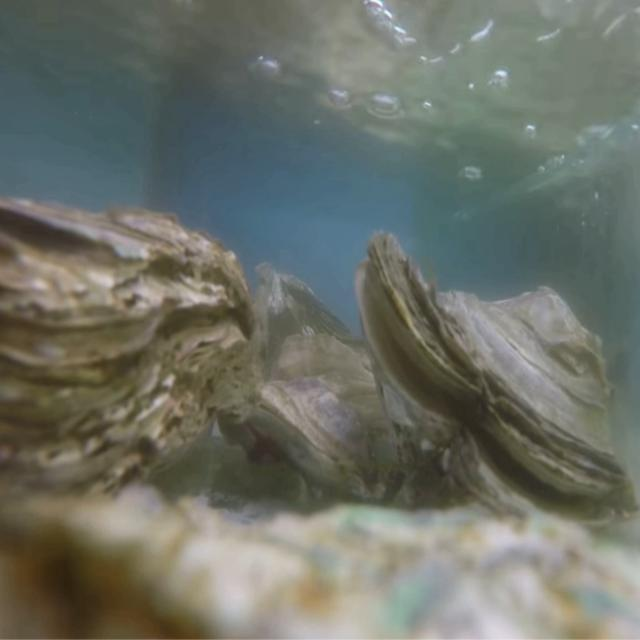Oyster-Closed: (0, 195, 256, 525), (257, 334, 416, 508)
Oyster-Indeterminate: (0, 486, 640, 640)
Oyster-Open: (353, 231, 640, 537)
